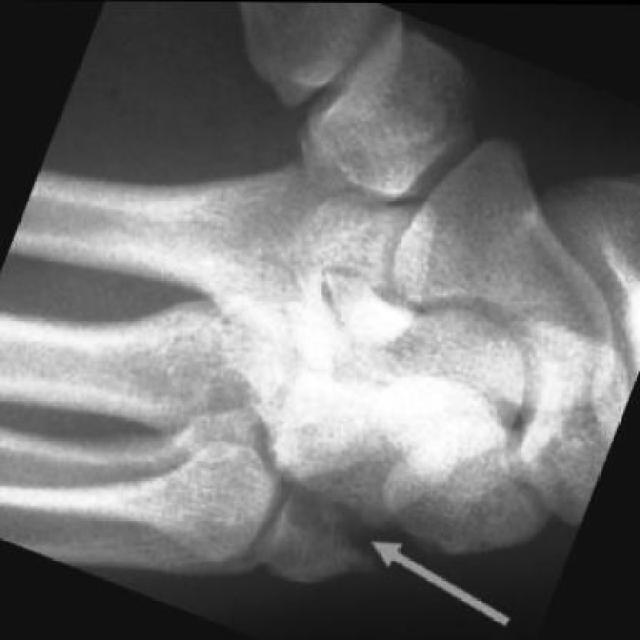Fracture: (260, 470, 402, 578)
